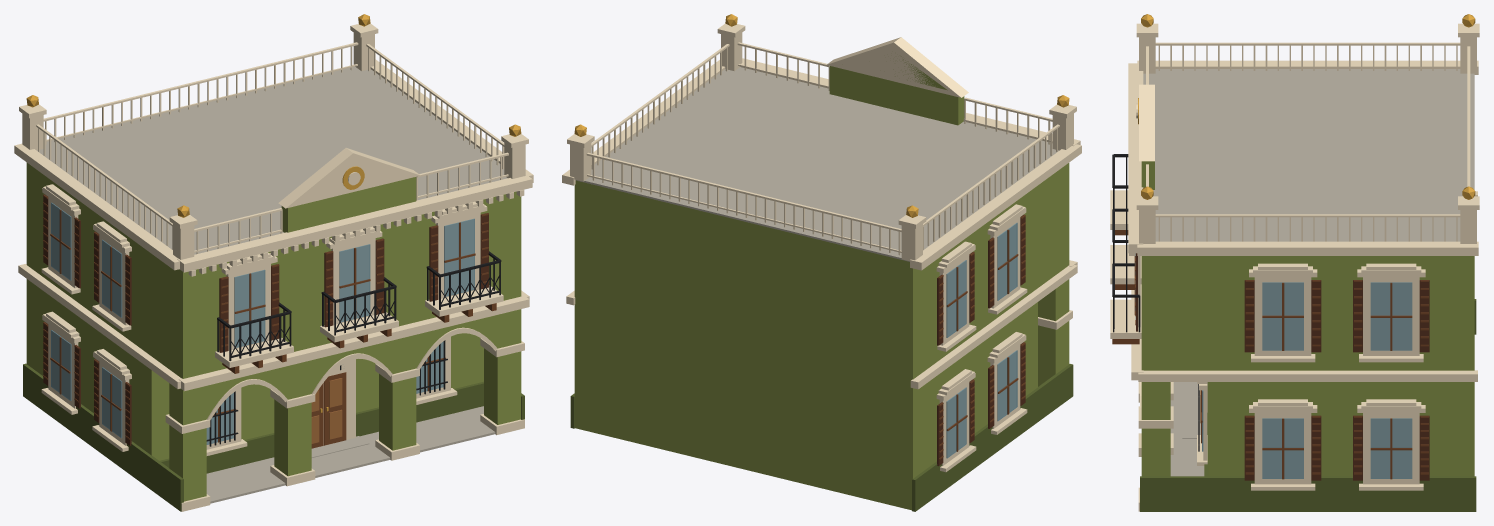
Rendered from casa-olivo-portal-arcos.glb.
The picture shows the model from 3 angles, left to right: view 1: azimuth 30°, elevation 25°; view 2: azimuth 150°, elevation 25°; view 3: azimuth 270°, elevation 25°; orthographic projection. The views are drawn at different scales.
Visible parts, largest first — view 1: Casa_Olivo_Portal_Arcos_Crema, Casa_Olivo_Portal_Arcos_MuroOlivo, Casa_Olivo_Portal_Arcos_Piedra, Casa_Olivo_Portal_Arcos_Vidrio, Casa_Olivo_Portal_Arcos_ZocaloOlivo, Casa_Olivo_Portal_Arcos_Postigo, Casa_Olivo_Portal_Arcos_Hierro, Casa_Olivo_Portal_Arcos_Madera, Casa_Olivo_Portal_Arcos_MaderaClara, Casa_Olivo_Portal_Arcos_Mostaza; view 2: Casa_Olivo_Portal_Arcos_MuroOlivo, Casa_Olivo_Portal_Arcos_Piedra, Casa_Olivo_Portal_Arcos_Crema, Casa_Olivo_Portal_Arcos_Vidrio, Casa_Olivo_Portal_Arcos_ZocaloOlivo, Casa_Olivo_Portal_Arcos_Postigo, Casa_Olivo_Portal_Arcos_Madera; view 3: Casa_Olivo_Portal_Arcos_Piedra, Casa_Olivo_Portal_Arcos_Crema, Casa_Olivo_Portal_Arcos_MuroOlivo, Casa_Olivo_Portal_Arcos_ZocaloOlivo, Casa_Olivo_Portal_Arcos_Vidrio, Casa_Olivo_Portal_Arcos_Postigo, Casa_Olivo_Portal_Arcos_Madera, Casa_Olivo_Portal_Arcos_Hierro, Casa_Olivo_Portal_Arcos_Mostaza.
Part boxes in pixels (x1,y1,x2,y2): Casa_Olivo_Portal_Arcos_Crema: [14, 23, 533, 511]; Casa_Olivo_Portal_Arcos_MuroOlivo: [26, 162, 521, 501]; Casa_Olivo_Portal_Arcos_Piedra: [37, 66, 507, 503]; Casa_Olivo_Portal_Arcos_Vidrio: [51, 202, 474, 444]; Casa_Olivo_Portal_Arcos_ZocaloOlivo: [23, 363, 524, 511]; Casa_Olivo_Portal_Arcos_Postigo: [43, 194, 488, 445]; Casa_Olivo_Portal_Arcos_Hierro: [206, 251, 501, 446]; Casa_Olivo_Portal_Arcos_Madera: [43, 195, 496, 448]; Casa_Olivo_Portal_Arcos_MaderaClara: [311, 378, 342, 443]; Casa_Olivo_Portal_Arcos_Mostaza: [26, 14, 521, 412]; Casa_Olivo_Portal_Arcos_MuroOlivo: [574, 56, 1069, 510]; Casa_Olivo_Portal_Arcos_Piedra: [576, 67, 1058, 261]; Casa_Olivo_Portal_Arcos_Crema: [562, 23, 1081, 472]; Casa_Olivo_Portal_Arcos_Vidrio: [946, 222, 1017, 458]; Casa_Olivo_Portal_Arcos_ZocaloOlivo: [570, 364, 1073, 511]; Casa_Olivo_Portal_Arcos_Postigo: [937, 214, 1025, 466]; Casa_Olivo_Portal_Arcos_Madera: [939, 215, 1025, 459]; Casa_Olivo_Portal_Arcos_Piedra: [1143, 69, 1474, 476]; Casa_Olivo_Portal_Arcos_Crema: [1110, 23, 1479, 511]; Casa_Olivo_Portal_Arcos_MuroOlivo: [1141, 161, 1474, 476]; Casa_Olivo_Portal_Arcos_ZocaloOlivo: [1140, 299, 1476, 511]; Casa_Olivo_Portal_Arcos_Vidrio: [1135, 253, 1412, 478]; Casa_Olivo_Portal_Arcos_Postigo: [1136, 253, 1429, 480]; Casa_Olivo_Portal_Arcos_Madera: [1112, 230, 1428, 479]; Casa_Olivo_Portal_Arcos_Hierro: [1112, 154, 1199, 451]; Casa_Olivo_Portal_Arcos_Mostaza: [1138, 14, 1475, 199].
Bounding box in the file's own units: 10.62 × 8.95 × 8.87.
